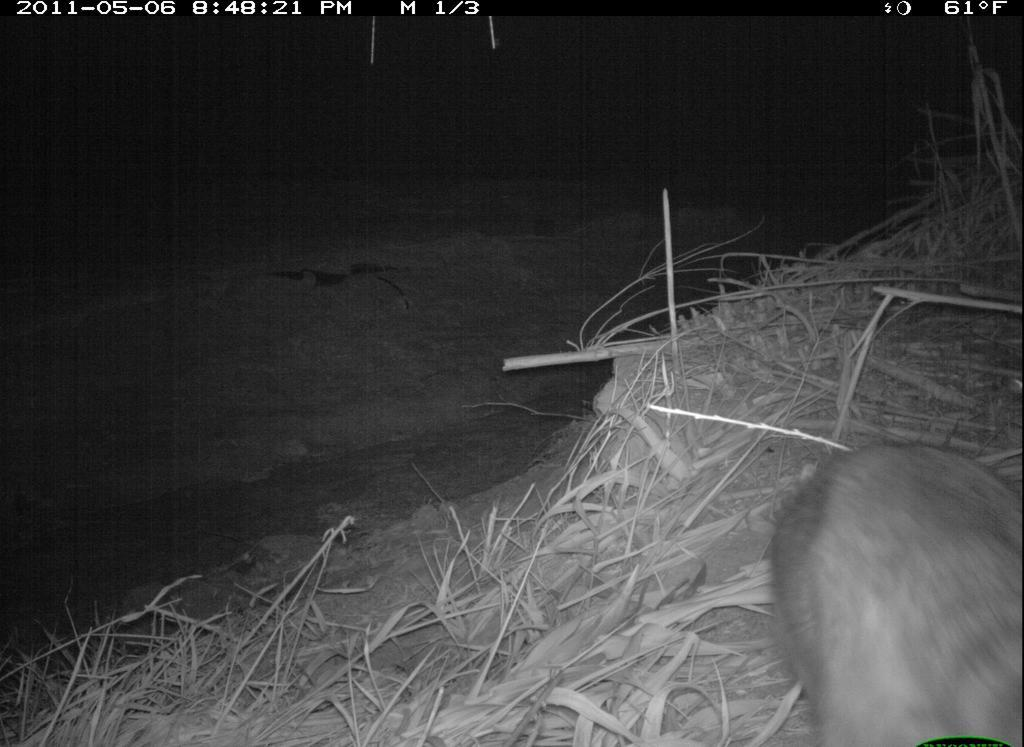raccoon: (762, 434, 1022, 742)
